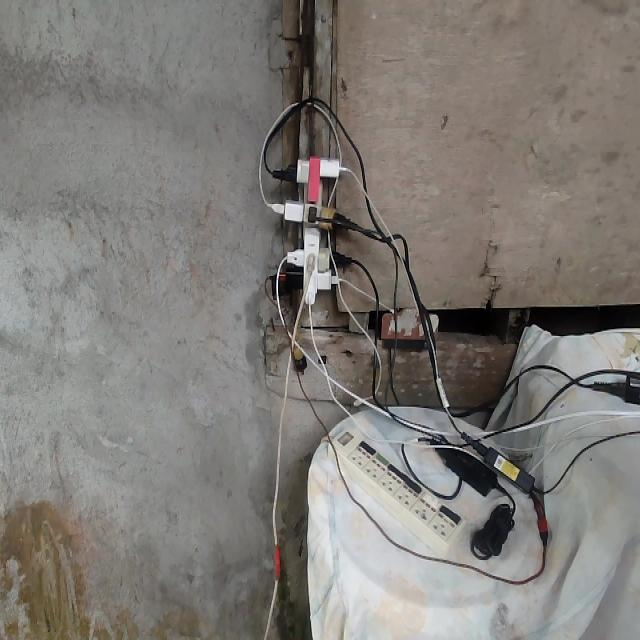-: (265, 153, 352, 303)
